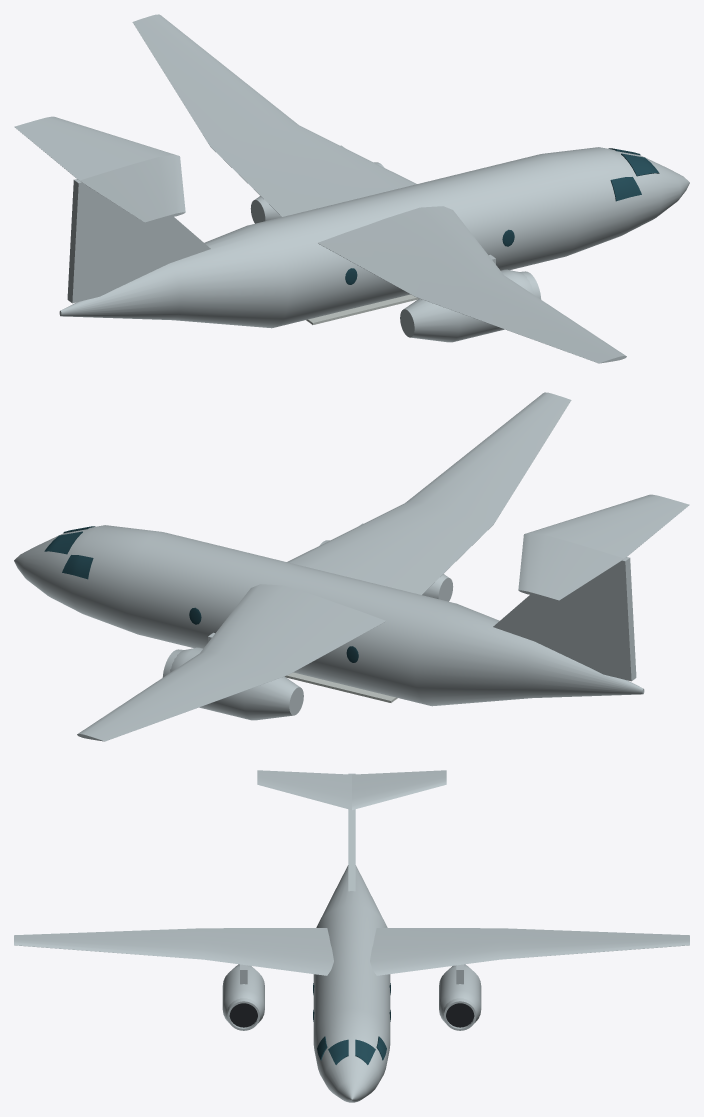
3 renders of one model, top to bottom at view 1: azimuth 30°, elevation 25°; view 2: azimuth 150°, elevation 25°; view 3: azimuth 270°, elevation 25°, orthographic. The views are drawn at different scales.
Visible parts, largest first — view 1: airframe_light, glazing, array_face; view 2: airframe_light, glazing, array_face; view 3: airframe_light, rubber, glazing.
Boxes of the visible parts, x1,y1,x2,y2 form: airframe_light: (14,14,689,363); glazing: (345,148,659,284); array_face: (306,294,418,324); airframe_light: (14,392,689,741); glazing: (44,526,358,662); array_face: (285,672,397,702); airframe_light: (14,770,689,1102); rubber: (229,1003,474,1027); glazing: (313,983,390,1064).
Bounding box in the file's own units: 7.79 × 2.32 × 10.
